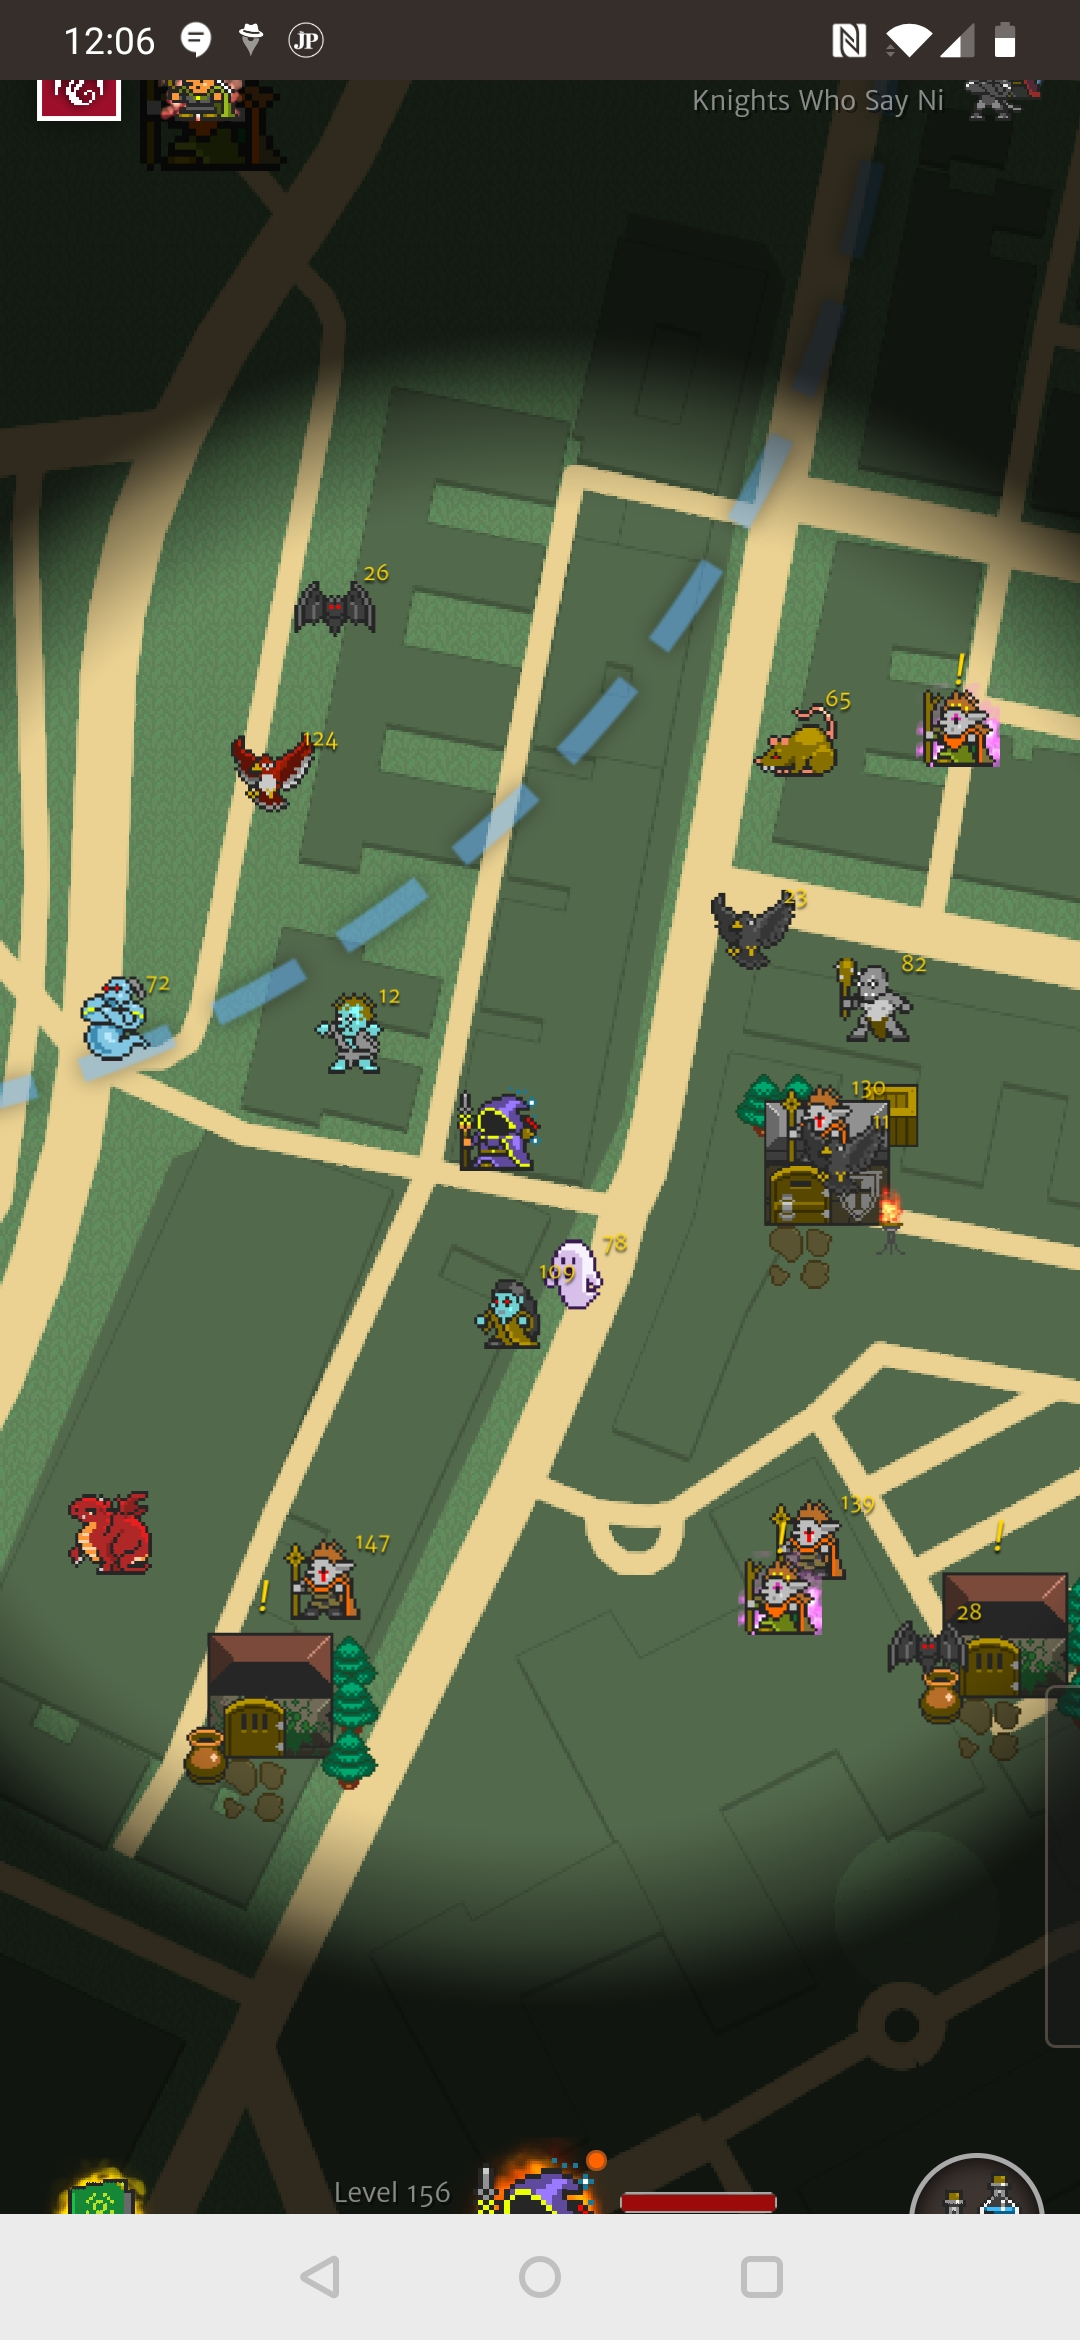monster: (749, 683, 857, 797), (694, 879, 810, 985), (222, 726, 343, 826), (282, 1532, 396, 1632), (286, 556, 396, 656), (773, 1491, 878, 1591), (312, 979, 404, 1089), (469, 1262, 576, 1356), (833, 950, 935, 1048), (910, 683, 1000, 779), (547, 1228, 633, 1315)
player: (455, 1093, 541, 1175)
